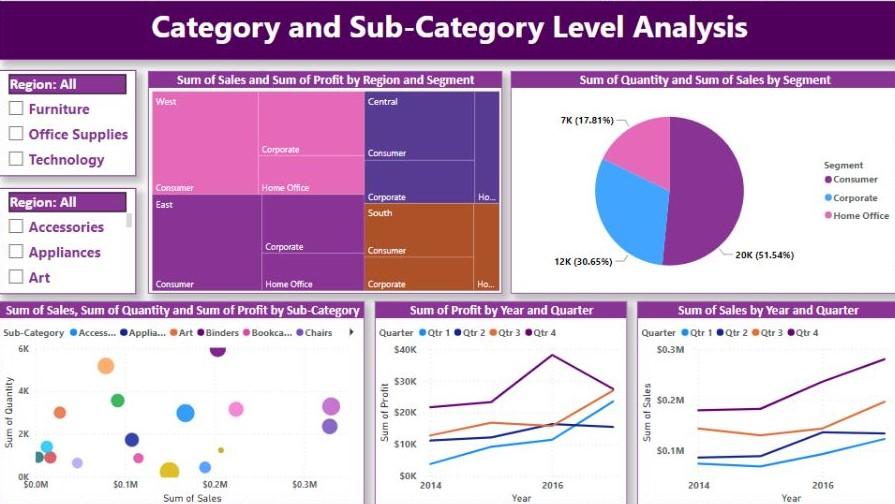

Layout of this report page (visuals, bound fields, positions):
{"tool":"powerbi","page":{"name":"Category and subcategory","canvas":[1280,720],"ordinal":2},"visuals":[{"type":"textbox","box":[0,0,1280,84],"z":0},{"type":"slicer","fields":{"Values":["Orders.Category"]},"box":[0,99.1,195.4,151.4],"z":1},{"type":"slicer","fields":{"Values":["Orders.Sub-Category"]},"box":[0,267,195.4,151.4],"z":2},{"type":"treemap","fields":{"Values":["Sum(Orders.Sales)"],"Group":["Orders.Region"],"Details":["Orders.Segment"]},"box":[212,100.5,503.7,316.6],"z":3},{"type":"pieChart","fields":{"Category":["Orders.Segment"],"Y":["Sum(Orders.Quantity)"]},"box":[728.1,100.5,551.9,316.6],"z":4},{"type":"scatterChart","fields":{"X":["Sum(Orders.Sales)"],"Size":["Sum(Orders.Profit)"],"Series":["Orders.Sub-Category"],"Y":["Sum(Orders.Quantity)"]},"box":[0,428,520.3,291.8],"z":5},{"type":"lineChart","fields":{"Category":["Orders.Year"],"Series":["Orders.Quarter"],"Y":["Sum(Orders.Profit)"]},"box":[534,428.2,359.2,291.8],"z":6},{"type":"lineChart","fields":{"Category":["Orders.Year"],"Series":["Orders.Quarter"],"Y":["Sum(Orders.Sales)"]},"box":[908.4,428,371.6,291.8],"z":7}]}

Visuals, with their boxes in screenshot pixels (x1, y1, x2, y2), scaled from the page's 1280x720 canvas onto the 895x504 screenshot:
textbox: bbox=(0, 0, 894, 59)
slicer - Orders.Category: bbox=(0, 69, 137, 175)
slicer - Orders.Sub-Category: bbox=(0, 187, 137, 293)
treemap - Sum(Orders.Sales) x Orders.Region: bbox=(148, 70, 500, 292)
pieChart - Orders.Segment x Sum(Orders.Quantity): bbox=(509, 70, 894, 292)
scatterChart - Sum(Orders.Sales) x Sum(Orders.Profit): bbox=(0, 300, 364, 503)
lineChart - Orders.Year x Orders.Quarter: bbox=(373, 300, 625, 503)
lineChart - Orders.Year x Orders.Quarter: bbox=(635, 300, 894, 503)
